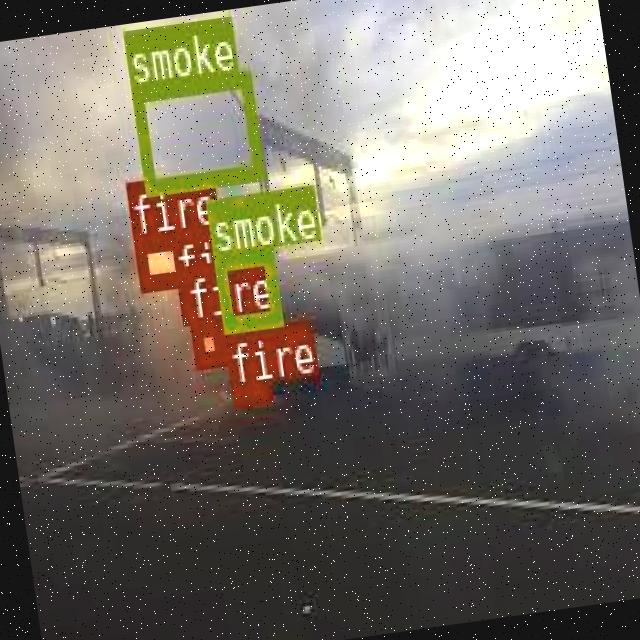fire: (130, 228, 190, 288), (189, 318, 225, 365), (176, 282, 206, 320), (230, 382, 272, 404)
smoke: (129, 68, 261, 192), (212, 247, 282, 331)
